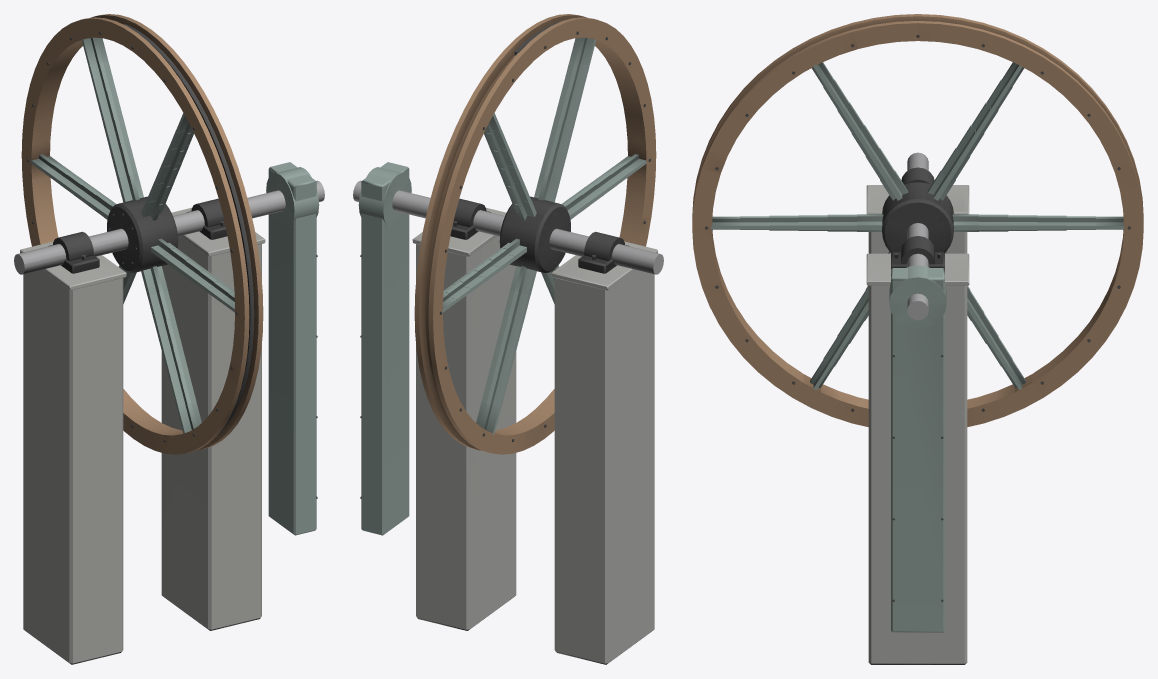
The model's file is fun_bull_wheel.glb.
3 views of the same model, side by side, from view 1: azimuth 30°, elevation 25°; view 2: azimuth 150°, elevation 25°; view 3: azimuth 270°, elevation 25° (orthographic).
Parts seen in each view (by area): view 1: static; view 2: static; view 3: static.
Part boxes in pixels (<box>): static: <box>14,14,324,664</box>; static: <box>353,14,663,664</box>; static: <box>692,14,1143,664</box>.
Bounding box in the file's own units: 3.9 × 7.36 × 5.02.
